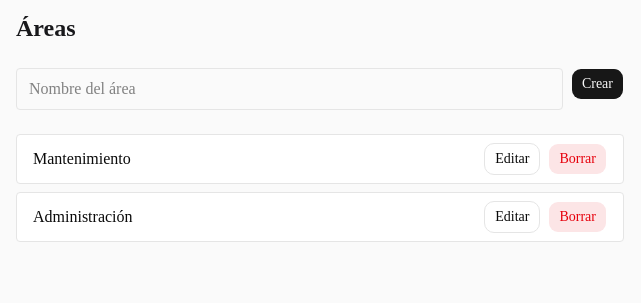
it: AreasPage › muestra el error del backend al borrar un área con Empleados
The image size is (641, 303).
Expected: the text "Mantenimiento" is shown, [33,147,131,171]
Click the button "Borrar" in the row of "Mantenimiento" at (578, 159), box [548,143,607,175]
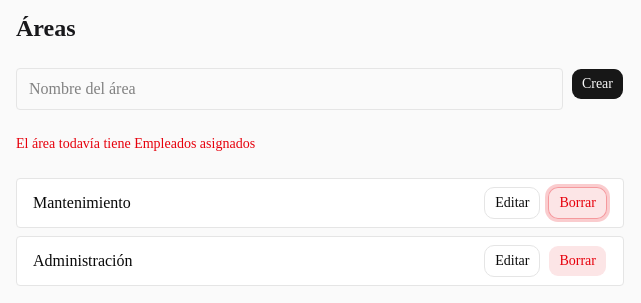
Now the message shows "Empleados asignados", box [16,136,255,151]
